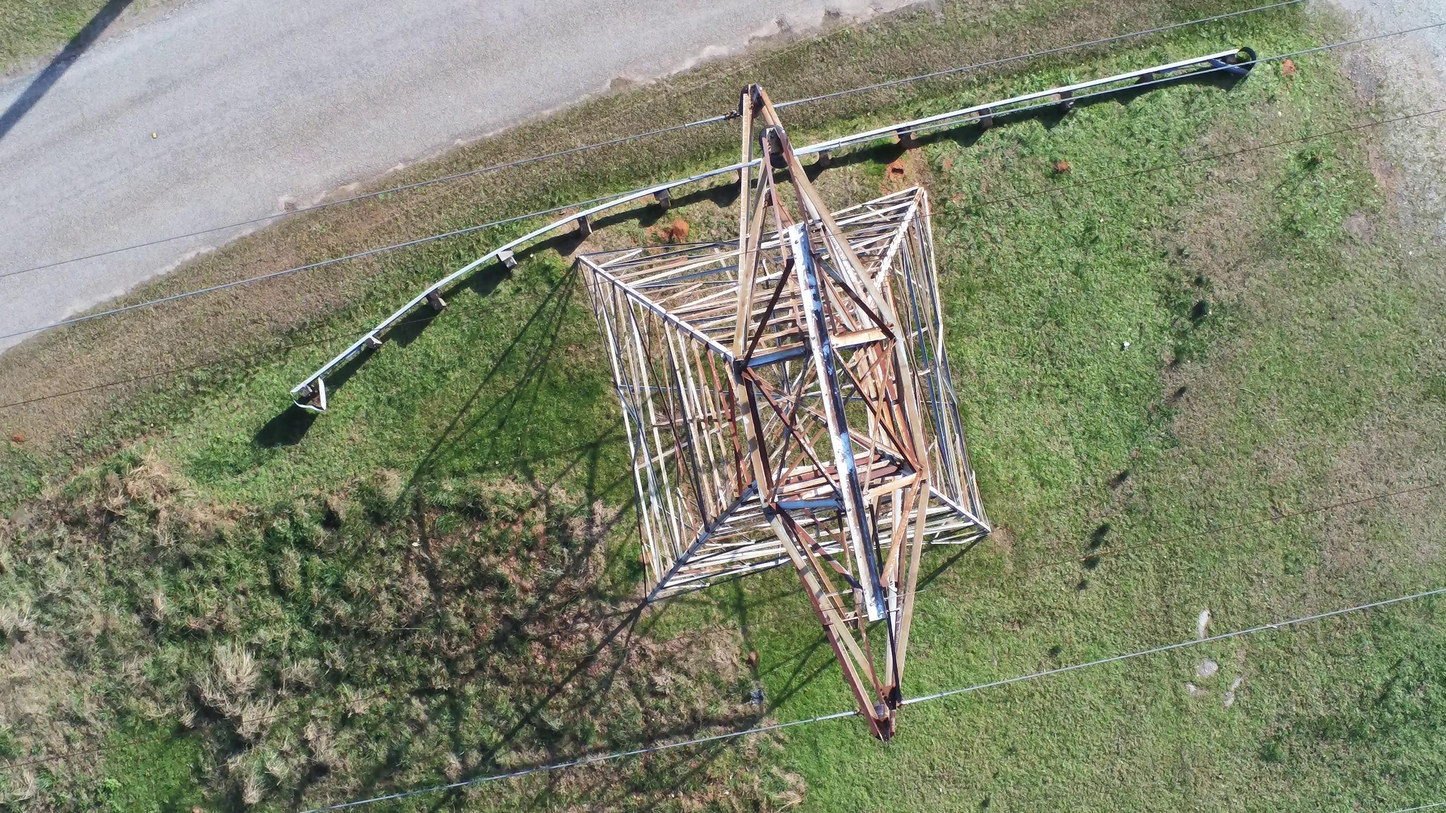power_tower: (577, 82, 992, 742)
